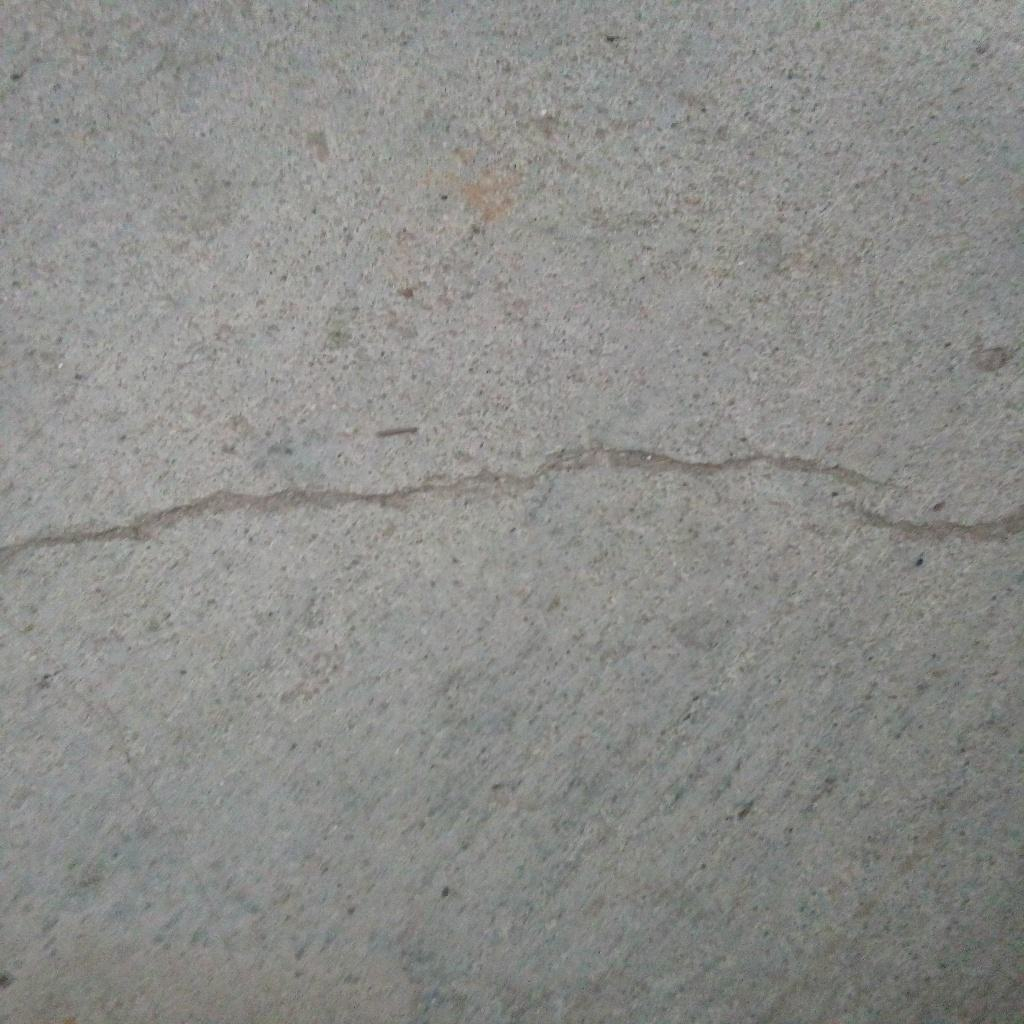Crack: (1, 445, 912, 552), (834, 500, 1024, 545)
